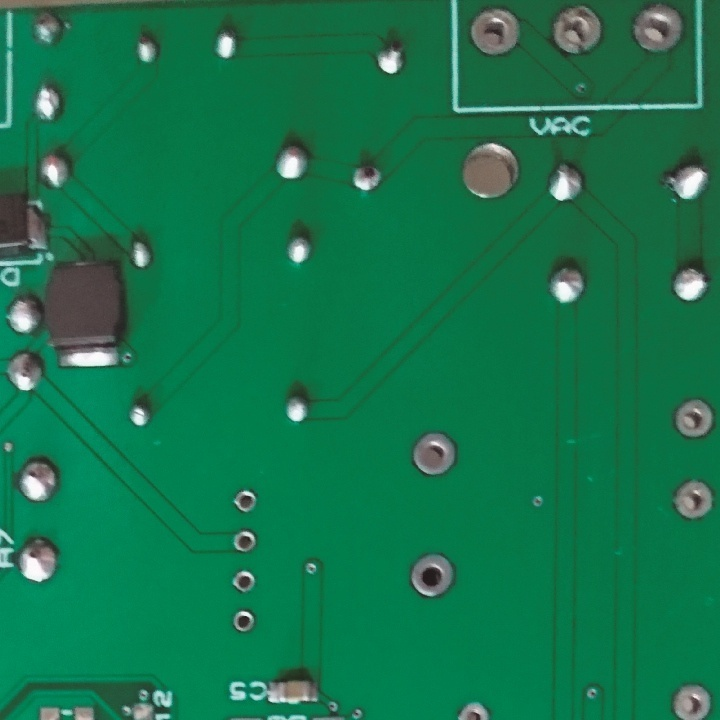F: (632, 1, 683, 58), (408, 429, 461, 480), (468, 8, 522, 58), (552, 4, 603, 56), (407, 552, 456, 600), (671, 397, 716, 441), (669, 680, 716, 720), (671, 475, 712, 520), (230, 487, 259, 515), (453, 700, 493, 720), (230, 608, 257, 634), (230, 569, 256, 595), (230, 529, 257, 554)
